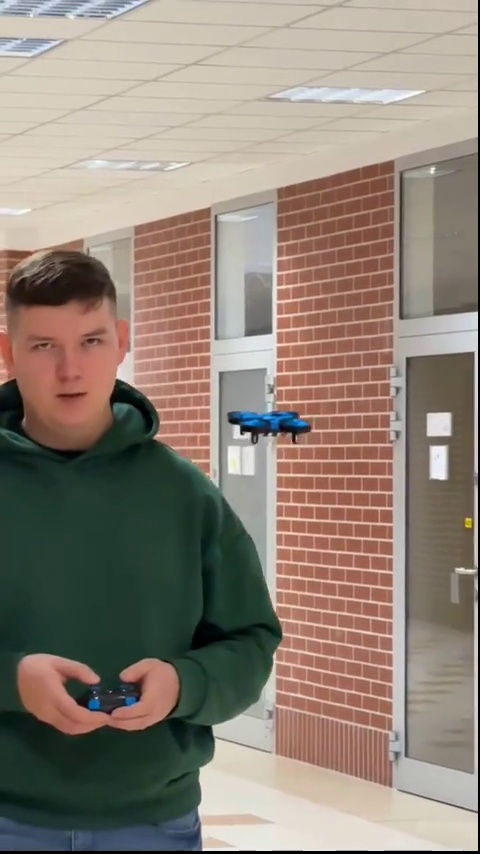drone: (224, 406, 308, 443)
no vest: (3, 249, 285, 850)
